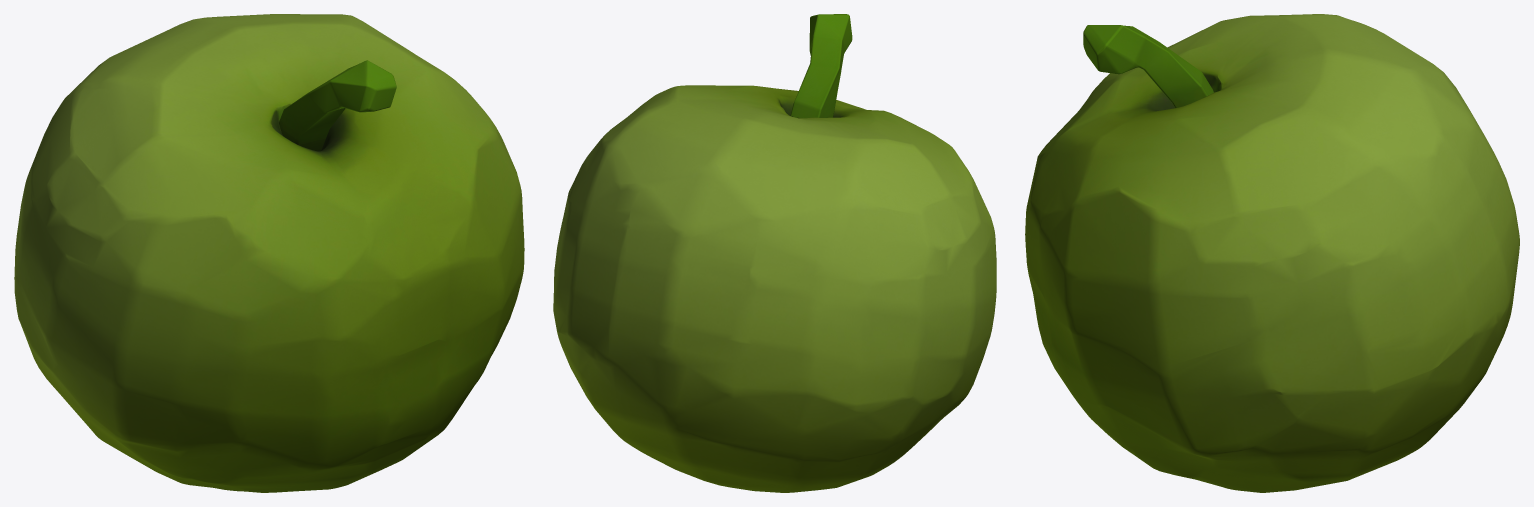
The model's file is fruit2.glb.
3 renders of one model, left to right at view 1: azimuth 30°, elevation 25°; view 2: azimuth 150°, elevation 25°; view 3: azimuth 270°, elevation 25°, orthographic. The views are drawn at different scales.
Visible parts, largest first — view 1: tripo_node_b2c8dde2-88ca-4fab-8e30-09db08d32e1e; view 2: tripo_node_b2c8dde2-88ca-4fab-8e30-09db08d32e1e; view 3: tripo_node_b2c8dde2-88ca-4fab-8e30-09db08d32e1e.
Part boxes in pixels (<box>): tripo_node_b2c8dde2-88ca-4fab-8e30-09db08d32e1e: <box>14,14,524,492</box>; tripo_node_b2c8dde2-88ca-4fab-8e30-09db08d32e1e: <box>553,14,996,492</box>; tripo_node_b2c8dde2-88ca-4fab-8e30-09db08d32e1e: <box>1025,14,1519,492</box>.
Bounding box in the file's own units: 0.9995 × 0.978 × 0.9888.
1 material, 1 textured.
